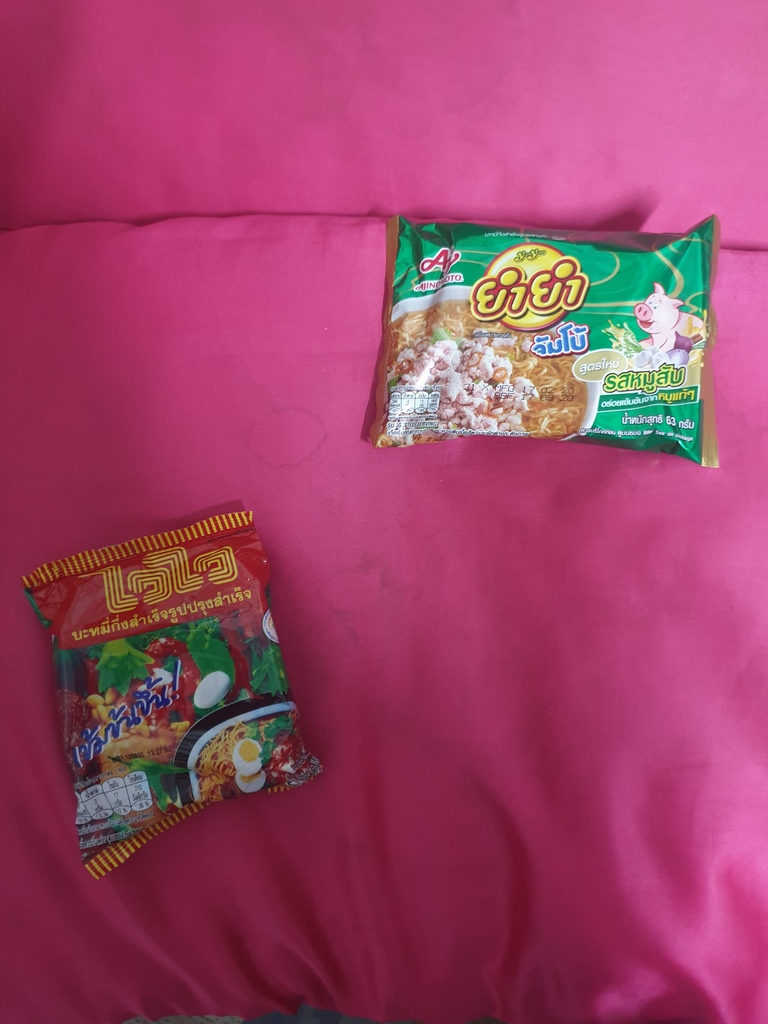waiwai: (16, 546, 332, 804)
yumyum: (378, 208, 718, 469)
